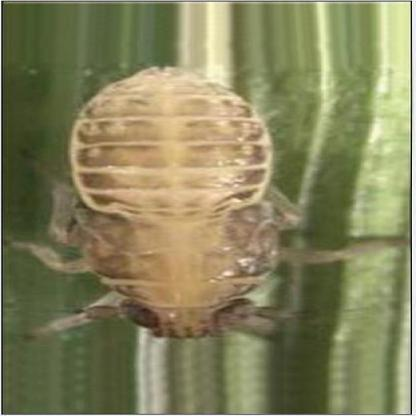brown-planthopper: (65, 64, 306, 341)
